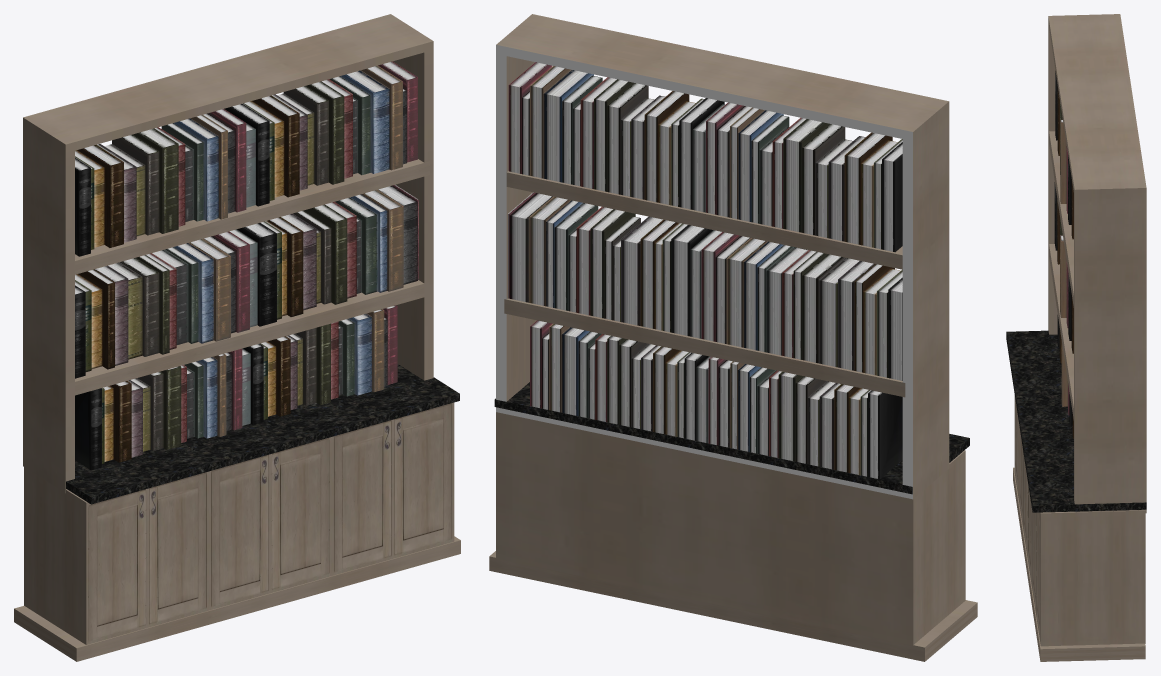
3 views of the same model, side by side, from view 1: azimuth 30°, elevation 25°; view 2: azimuth 150°, elevation 25°; view 3: azimuth 270°, elevation 25° (orthographic). The views are drawn at different scales.
Parts seen in each view (by area): view 1: cabinets, frame, books_top, books_mid, books_btm, btmshelf, base, topshelf, midshelf; view 2: cabinets, frame, books_top, books_mid, books_btm, base, midshelf, topshelf, btmshelf; view 3: frame, cabinets, btmshelf, base, books_mid, books_top, topshelf, midshelf, books_btm.
Part boxes in pixels (bbox=[...]): cabinets: bbox=[24, 402, 454, 644]; frame: bbox=[23, 14, 433, 493]; books_top: bbox=[75, 61, 417, 256]; books_mid: bbox=[75, 185, 418, 378]; books_btm: bbox=[75, 305, 397, 470]; btmshelf: bbox=[66, 364, 459, 504]; base: bbox=[14, 536, 460, 661]; topshelf: bbox=[75, 159, 429, 274]; midshelf: bbox=[75, 280, 424, 395]; cabinets: bbox=[496, 412, 965, 645]; frame: bbox=[496, 14, 949, 499]; books_top: bbox=[508, 62, 902, 252]; books_mid: bbox=[508, 192, 902, 380]; books_btm: bbox=[530, 320, 902, 479]; base: bbox=[489, 551, 977, 661]; midshelf: bbox=[504, 298, 905, 397]; topshelf: bbox=[506, 171, 902, 269]; btmshelf: bbox=[494, 382, 969, 494]; frame: bbox=[1048, 14, 1146, 513]; cabinets: bbox=[1014, 395, 1145, 646]; btmshelf: bbox=[1006, 330, 1146, 512]; base: bbox=[1013, 467, 1145, 661]; books_mid: bbox=[1054, 182, 1073, 353]; books_top: bbox=[1055, 71, 1073, 239]; topshelf: bbox=[1049, 131, 1074, 309]; midshelf: bbox=[1049, 244, 1073, 420]; books_btm: bbox=[1057, 315, 1073, 438].
Bounding box in the file's own units: 3.63 × 4.29 × 1.17.
28 materials, 27 textured.
